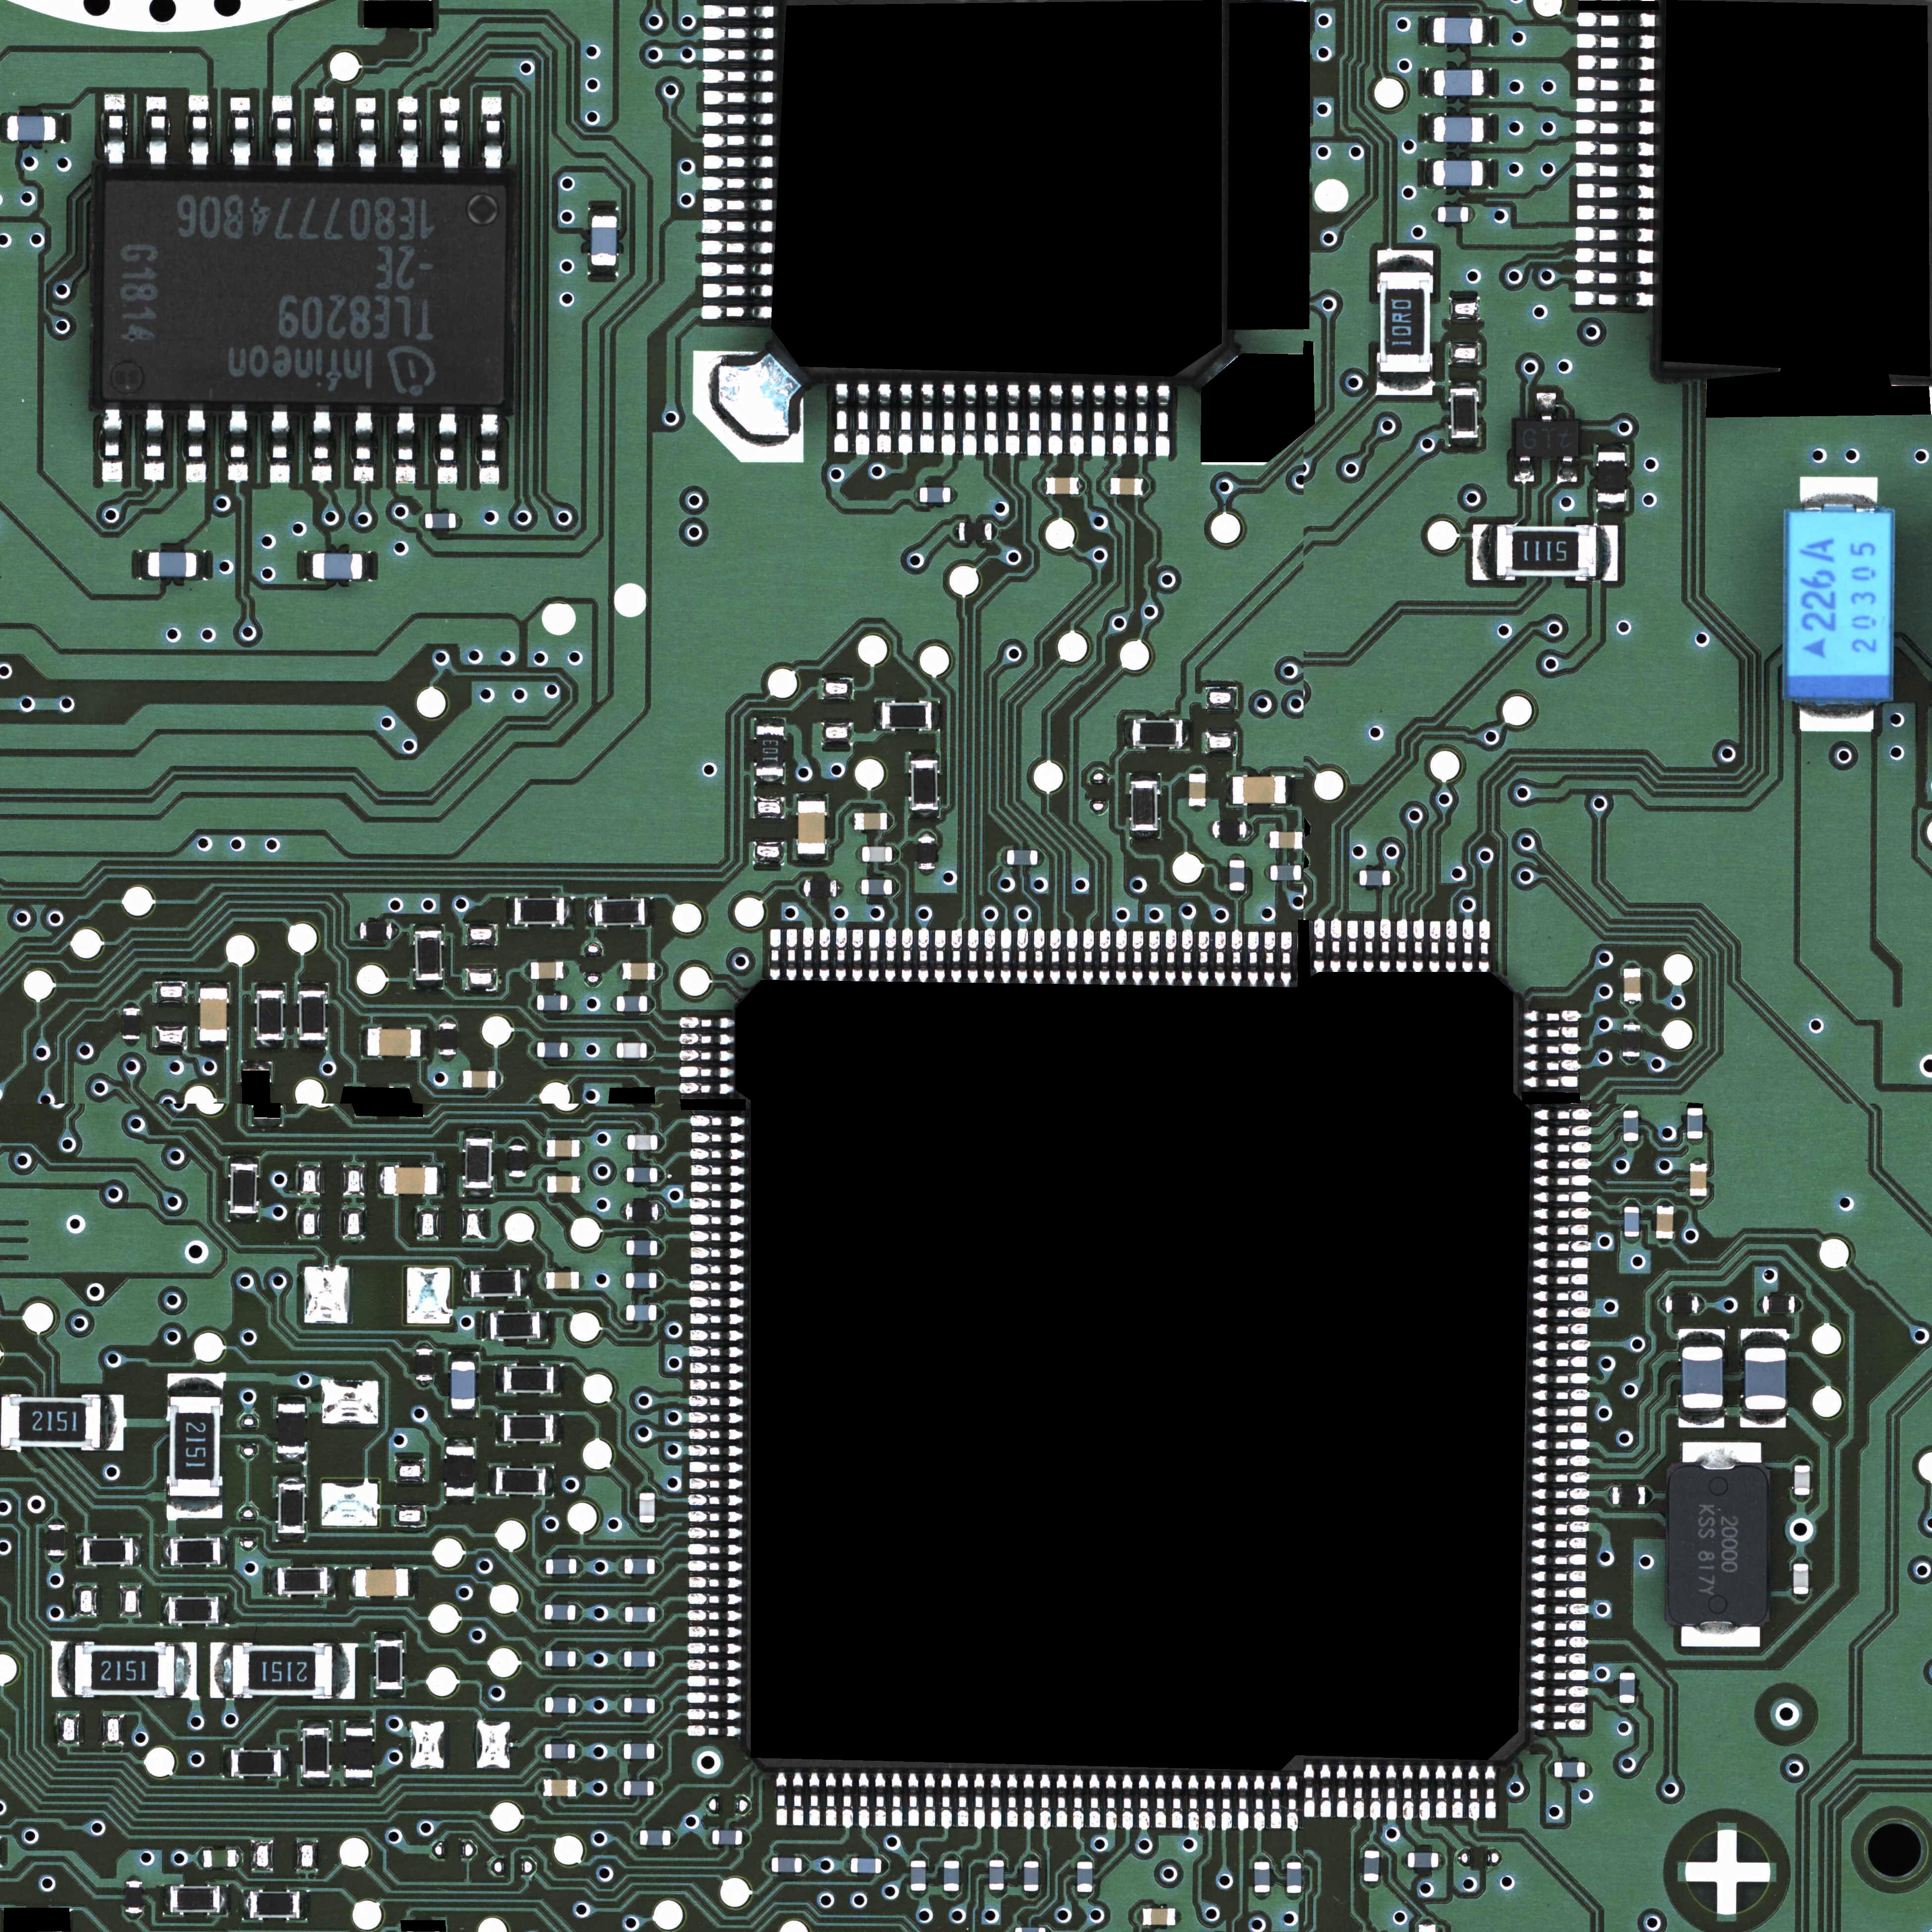Package: (101, 179, 507, 407), (1787, 510, 1892, 698), (1667, 1464, 1769, 1624), (232, 1645, 333, 1696), (75, 1644, 174, 1696), (1496, 526, 1596, 577), (1379, 272, 1430, 372), (169, 1397, 221, 1496), (2, 1397, 100, 1448), (1744, 1348, 1786, 1409), (1682, 1347, 1723, 1407), (1515, 422, 1579, 456), (199, 987, 227, 1041), (368, 1028, 420, 1056), (798, 801, 825, 854), (385, 1167, 437, 1194), (1597, 452, 1625, 502), (354, 1570, 407, 1596), (1232, 777, 1285, 803), (345, 1727, 373, 1777), (756, 725, 783, 776), (277, 1403, 305, 1452), (464, 1137, 491, 1188), (446, 1447, 474, 1496), (278, 1482, 304, 1533), (1451, 387, 1477, 438), (415, 930, 441, 980), (1434, 17, 1483, 44), (911, 760, 938, 809), (1132, 720, 1181, 746), (256, 990, 283, 1039), (504, 1415, 553, 1441), (312, 553, 363, 579), (170, 1539, 221, 1564), (1435, 69, 1484, 95), (515, 899, 564, 924), (83, 1538, 133, 1564), (299, 990, 325, 1040), (230, 1750, 280, 1776), (277, 1568, 327, 1594), (1131, 781, 1157, 830), (376, 1640, 402, 1689), (882, 703, 932, 728), (592, 215, 617, 266), (490, 1313, 540, 1338), (495, 1468, 545, 1494), (1434, 116, 1484, 141), (169, 1597, 219, 1622), (250, 1892, 300, 1917), (304, 1728, 329, 1778), (231, 1164, 256, 1213), (504, 1367, 553, 1392), (170, 1887, 219, 1912), (471, 1271, 520, 1296), (1434, 160, 1483, 185), (595, 900, 644, 924), (147, 552, 196, 577), (8, 116, 55, 140), (451, 1361, 475, 1409), (1690, 1162, 1708, 1196), (1212, 821, 1246, 839), (203, 1850, 236, 1868), (1624, 967, 1641, 1001), (1189, 773, 1207, 806), (547, 1271, 580, 1289), (959, 522, 991, 539), (1270, 831, 1302, 849), (1656, 1206, 1674, 1239), (1665, 1296, 1698, 1313), (547, 1140, 580, 1157), (1143, 1908, 1175, 1925), (626, 1203, 657, 1220), (805, 879, 836, 897), (416, 1350, 434, 1380), (531, 962, 564, 978), (1613, 1487, 1645, 1504), (855, 812, 887, 829), (1622, 1024, 1640, 1057), (122, 1007, 140, 1039), (509, 1144, 526, 1176), (125, 1881, 142, 1913), (1046, 477, 1078, 494), (1764, 1295, 1794, 1312), (918, 838, 936, 869), (463, 1070, 496, 1087), (543, 1779, 576, 1795), (547, 1175, 579, 1192), (1111, 478, 1143, 494), (622, 963, 654, 979), (545, 1697, 577, 1713), (943, 1861, 961, 1890), (544, 1743, 576, 1759), (624, 1650, 655, 1667), (360, 922, 391, 939), (626, 1240, 657, 1256), (425, 512, 456, 528), (626, 1273, 657, 1289), (1286, 1862, 1302, 1892), (440, 1023, 455, 1055), (617, 995, 647, 1011), (862, 879, 892, 895), (1255, 1862, 1270, 1892), (1229, 860, 1245, 891), (1554, 1761, 1585, 1777), (624, 1558, 654, 1574), (48, 1525, 64, 1555), (862, 846, 892, 862), (1624, 1111, 1640, 1141), (1438, 207, 1469, 222), (545, 1650, 576, 1666), (1792, 1563, 1808, 1594), (639, 1492, 654, 1523), (1359, 870, 1390, 886), (1619, 1672, 1635, 1702), (617, 1042, 647, 1058), (1076, 1862, 1092, 1892), (911, 1860, 926, 1890), (627, 1305, 656, 1321), (625, 1607, 655, 1622), (625, 1698, 655, 1713), (624, 1743, 654, 1759), (1364, 1850, 1379, 1881), (920, 487, 951, 502), (628, 1134, 657, 1150), (537, 995, 567, 1010), (545, 1604, 576, 1619), (1007, 850, 1037, 865), (1794, 1465, 1809, 1495), (771, 1856, 802, 1871), (624, 1781, 653, 1796), (1688, 1108, 1702, 1139), (1408, 1852, 1438, 1867), (640, 1830, 670, 1845), (546, 1559, 577, 1574), (851, 1857, 881, 1872), (989, 1860, 1004, 1890), (713, 1830, 742, 1844), (1624, 1207, 1639, 1236), (626, 1167, 657, 1182), (1271, 866, 1302, 880), (1024, 1861, 1038, 1891), (538, 1042, 568, 1057)
Solder: (693, 350, 803, 462), (1801, 478, 1878, 508), (1800, 702, 1874, 731), (1681, 1625, 1761, 1647), (1682, 1442, 1761, 1463), (100, 409, 123, 483), (397, 96, 420, 170), (313, 96, 335, 169), (479, 410, 500, 485), (311, 410, 332, 483), (104, 93, 125, 166), (439, 97, 461, 170), (272, 95, 293, 168), (356, 97, 377, 169), (189, 94, 209, 168), (230, 97, 251, 168), (269, 410, 290, 485), (395, 409, 416, 484), (482, 96, 502, 170), (146, 95, 167, 167), (437, 410, 457, 484), (186, 409, 206, 484), (354, 409, 374, 483), (228, 410, 248, 483), (144, 409, 164, 482), (1376, 373, 1433, 395), (167, 1373, 225, 1395), (1472, 524, 1495, 580), (166, 1497, 223, 1519), (101, 1394, 124, 1450), (333, 1643, 355, 1699), (52, 1642, 74, 1696), (175, 1643, 196, 1699), (1377, 250, 1434, 271), (210, 1643, 232, 1698), (1577, 77, 1654, 92), (1577, 119, 1654, 134), (1576, 162, 1653, 177), (1577, 184, 1655, 198), (1576, 227, 1654, 241), (1576, 290, 1653, 305), (1578, 12, 1655, 27), (1577, 248, 1654, 263), (1576, 270, 1653, 285), (1578, 35, 1655, 49), (1577, 55, 1655, 70), (1577, 97, 1655, 112), (1576, 141, 1654, 155), (1577, 206, 1654, 220), (1598, 526, 1618, 580), (856, 383, 870, 455), (1113, 384, 1127, 456), (1091, 384, 1105, 456), (1070, 384, 1085, 456), (963, 383, 977, 454), (703, 26, 773, 41), (703, 69, 773, 83), (941, 384, 956, 454), (919, 384, 933, 454), (703, 262, 773, 276), (703, 304, 773, 319), (1157, 384, 1170, 456), (1134, 384, 1148, 456), (1049, 384, 1063, 456), (985, 383, 999, 454), (899, 382, 913, 454), (877, 382, 891, 454), (1006, 385, 1019, 455), (834, 383, 848, 454), (1027, 385, 1041, 455), (703, 112, 773, 126), (703, 154, 773, 168), (704, 5, 773, 19), (704, 48, 773, 61), (704, 91, 773, 104), (704, 133, 773, 147), (703, 284, 773, 297), (703, 177, 773, 191), (703, 198, 773, 212), (703, 219, 773, 233), (703, 241, 773, 254), (1679, 1408, 1725, 1428), (1740, 1329, 1788, 1346), (1740, 1410, 1787, 1428), (1679, 1329, 1725, 1346), (1524, 1010, 1580, 1022), (1531, 1670, 1589, 1682), (1532, 1603, 1589, 1615), (1524, 1043, 1580, 1055), (1524, 1060, 1580, 1072), (1531, 1686, 1589, 1697), (957, 1774, 969, 1827), (775, 1773, 788, 1826), (1532, 1571, 1587, 1583), (1533, 1405, 1588, 1417), (1106, 1775, 1117, 1829), (687, 1609, 741, 1621), (687, 1642, 741, 1654), (688, 1477, 742, 1489), (688, 1510, 742, 1522), (688, 1527, 742, 1539), (688, 1543, 742, 1555), (688, 1576, 742, 1588), (690, 1313, 744, 1325), (689, 1411, 743, 1423), (690, 1462, 744, 1474), (691, 1132, 745, 1144), (691, 1165, 745, 1177), (690, 1181, 744, 1193), (680, 1034, 734, 1046), (1532, 1587, 1586, 1598), (1056, 1774, 1067, 1828), (792, 1772, 804, 1826), (687, 1675, 740, 1687), (690, 1378, 744, 1390), (690, 1346, 744, 1358), (691, 1362, 744, 1374), (690, 1428, 744, 1440), (690, 1115, 744, 1127), (691, 1149, 744, 1160), (680, 1050, 733, 1062), (841, 1774, 853, 1827), (809, 1773, 821, 1826), (1039, 1774, 1051, 1829), (858, 1773, 869, 1828), (1534, 1356, 1589, 1368), (1533, 1257, 1588, 1269), (1533, 1504, 1588, 1516), (1531, 1702, 1586, 1714), (907, 1774, 919, 1827), (1287, 1776, 1298, 1830), (1238, 1776, 1249, 1830), (1122, 1775, 1134, 1830), (1022, 1775, 1034, 1829), (1523, 1076, 1578, 1087), (1534, 1109, 1591, 1120), (1534, 1125, 1591, 1136), (1534, 1175, 1591, 1186), (1534, 1192, 1591, 1203), (1534, 1224, 1591, 1235), (1533, 1307, 1590, 1318), (1534, 1340, 1591, 1351), (1534, 1274, 1588, 1285), (1533, 1455, 1590, 1466), (1534, 1389, 1591, 1400), (1532, 1522, 1589, 1533), (1182, 930, 1193, 986), (1380, 920, 1391, 976), (1396, 920, 1407, 976), (1446, 920, 1456, 976), (1463, 919, 1474, 976), (1479, 920, 1490, 977), (1535, 1142, 1591, 1153), (1534, 1159, 1591, 1169), (1534, 1208, 1591, 1219), (1534, 1241, 1591, 1252), (1534, 1488, 1590, 1499), (1534, 1373, 1590, 1384), (1188, 1776, 1199, 1830), (990, 1774, 1002, 1828), (688, 1725, 742, 1737), (687, 1708, 741, 1720), (688, 1627, 742, 1638), (688, 1659, 742, 1671), (688, 1495, 742, 1506), (688, 1593, 742, 1604), (689, 1396, 743, 1407), (689, 1445, 743, 1456), (691, 1231, 745, 1243), (691, 1215, 745, 1226), (690, 1198, 744, 1209), (680, 1066, 734, 1078), (680, 1018, 734, 1029), (770, 928, 781, 984), (786, 928, 797, 984), (803, 928, 814, 984), (836, 928, 847, 984), (852, 929, 863, 985), (885, 928, 896, 984), (901, 929, 912, 985), (918, 929, 929, 985), (951, 929, 962, 985), (968, 929, 979, 985), (984, 929, 995, 985), (1017, 929, 1028, 985), (1066, 929, 1077, 985), (1083, 930, 1094, 986), (1100, 930, 1111, 986), (1149, 930, 1160, 986), (1165, 930, 1176, 986), (1199, 931, 1209, 987), (1214, 931, 1225, 987), (1248, 931, 1258, 987), (1264, 931, 1275, 987), (1314, 919, 1325, 975), (1363, 920, 1374, 976), (1412, 920, 1423, 976), (1429, 920, 1440, 976), (1533, 1323, 1589, 1334), (1532, 1538, 1588, 1549), (1531, 1636, 1587, 1647), (1485, 1765, 1496, 1818), (1468, 1765, 1480, 1818), (1452, 1765, 1463, 1818), (1370, 1765, 1381, 1819), (1402, 1766, 1413, 1819), (1419, 1766, 1430, 1819), (1353, 1765, 1364, 1819), (1336, 1764, 1348, 1818), (1320, 1764, 1331, 1817), (1270, 1776, 1282, 1829), (1089, 1775, 1101, 1829), (940, 1774, 952, 1827), (687, 1692, 741, 1703), (688, 1560, 741, 1571), (691, 1330, 744, 1342), (690, 1297, 744, 1308), (690, 1280, 744, 1292), (691, 1263, 744, 1275), (691, 1248, 745, 1259), (680, 1083, 734, 1094), (819, 928, 830, 984), (935, 929, 946, 985), (1116, 930, 1127, 985), (1034, 929, 1045, 985), (1330, 919, 1341, 975), (1533, 1471, 1589, 1482), (1254, 1776, 1265, 1829), (1221, 1776, 1233, 1829), (1205, 1776, 1216, 1829), (1171, 1775, 1183, 1828), (1155, 1775, 1166, 1828), (1138, 1776, 1150, 1829), (1007, 1774, 1018, 1827), (973, 1775, 985, 1828), (924, 1774, 935, 1827), (825, 1773, 837, 1826), (1281, 932, 1292, 987), (1533, 1290, 1588, 1301), (1533, 1439, 1588, 1449), (1531, 1621, 1586, 1632), (1531, 1719, 1586, 1730), (875, 1774, 886, 1826), (869, 929, 880, 984), (1132, 931, 1143, 985), (1524, 1027, 1579, 1038), (1535, 392, 1555, 421), (1072, 1775, 1083, 1829), (1232, 930, 1242, 987), (1556, 456, 1579, 482), (1436, 1765, 1447, 1818), (1386, 1765, 1397, 1819), (1304, 1764, 1314, 1817), (1534, 1422, 1587, 1433), (891, 1774, 902, 1827), (1532, 1555, 1587, 1565), (1531, 1654, 1586, 1664), (1001, 930, 1012, 985), (1051, 930, 1061, 984), (1347, 921, 1357, 975), (1514, 456, 1535, 482), (241, 1059, 273, 1069), (1484, 158, 1495, 188), (1182, 719, 1193, 748), (1422, 159, 1433, 187), (1423, 114, 1434, 142), (1422, 69, 1433, 97), (1421, 15, 1432, 43), (1449, 438, 1481, 447), (444, 1437, 476, 1446), (220, 1594, 229, 1627), (374, 1689, 406, 1697), (1596, 502, 1627, 512), (505, 896, 515, 926), (160, 1537, 170, 1567), (447, 1352, 481, 1360), (448, 1409, 479, 1418), (343, 1778, 374, 1787), (1484, 68, 1494, 97), (1486, 17, 1495, 46), (276, 1453, 307, 1462), (275, 1533, 306, 1542), (796, 792, 828, 800), (228, 1213, 260, 1222), (565, 898, 574, 926), (461, 1269, 471, 1297), (521, 1268, 530, 1299), (546, 1466, 555, 1497), (328, 1566, 337, 1596), (1129, 830, 1159, 839), (255, 1040, 287, 1049), (1485, 114, 1494, 143), (159, 1596, 168, 1626), (444, 1497, 477, 1504), (495, 1412, 503, 1445), (932, 701, 940, 731), (241, 1890, 250, 1921), (755, 776, 785, 785), (222, 1748, 231, 1776), (421, 1028, 430, 1057), (586, 897, 594, 926), (494, 1364, 503, 1394), (281, 1749, 290, 1779), (300, 1778, 330, 1787), (414, 980, 443, 989), (463, 1189, 492, 1198), (909, 810, 939, 818), (253, 1120, 283, 1128), (797, 854, 828, 861), (359, 1027, 367, 1057), (482, 1310, 490, 1340), (540, 1311, 548, 1341), (276, 1395, 308, 1402), (1124, 719, 1132, 748), (56, 113, 64, 143), (464, 1129, 492, 1138), (908, 752, 939, 759), (162, 1884, 169, 1916), (874, 701, 882, 730), (487, 1465, 495, 1495), (409, 1567, 416, 1600), (375, 1632, 405, 1639), (220, 1885, 228, 1916), (1130, 773, 1160, 780), (255, 982, 285, 990), (554, 1365, 561, 1395), (301, 1890, 308, 1920), (755, 718, 786, 724), (297, 1040, 328, 1047), (297, 983, 329, 990), (376, 1166, 384, 1195), (133, 1537, 141, 1565), (588, 208, 619, 215), (76, 1536, 83, 1566), (554, 1414, 561, 1444), (437, 1166, 444, 1196), (1286, 775, 1293, 805), (1449, 381, 1480, 387), (413, 924, 444, 930), (344, 1720, 375, 1727), (301, 1720, 332, 1727), (0, 114, 7, 142), (197, 550, 204, 580), (229, 1157, 259, 1163), (305, 551, 312, 581), (1225, 775, 1232, 804), (139, 551, 146, 578), (221, 1537, 227, 1568), (278, 1476, 306, 1482), (589, 266, 619, 272), (1597, 445, 1627, 451), (269, 1567, 275, 1596), (645, 898, 651, 925), (348, 1567, 354, 1599), (363, 551, 369, 581), (1795, 1296, 1804, 1314), (198, 1041, 227, 1047), (655, 1558, 663, 1577), (199, 982, 230, 987), (658, 1133, 666, 1152), (742, 1829, 750, 1847), (989, 1890, 1008, 1898), (655, 1603, 663, 1623), (943, 1891, 963, 1898), (658, 1203, 666, 1222), (656, 1305, 665, 1322), (1363, 1882, 1383, 1889), (638, 1523, 657, 1530), (657, 1273, 666, 1289), (568, 994, 576, 1012), (910, 1891, 928, 1898), (1439, 1851, 1446, 1870), (1586, 1761, 1593, 1780), (1646, 1486, 1653, 1505), (881, 1857, 889, 1875), (944, 1853, 962, 1861), (1623, 1237, 1641, 1244), (655, 1650, 662, 1669), (802, 1857, 809, 1876), (391, 922, 399, 939), (647, 1042, 655, 1059), (577, 1558, 583, 1576), (1022, 1891, 1041, 1898), (1793, 1594, 1812, 1601), (538, 1557, 546, 1574), (843, 1857, 851, 1874), (1285, 1894, 1304, 1900), (1246, 821, 1253, 840), (837, 880, 844, 898), (648, 995, 655, 1013), (1793, 1458, 1811, 1465), (657, 1240, 665, 1256), (577, 1650, 583, 1669), (1022, 1854, 1041, 1861), (1793, 1496, 1812, 1502), (655, 962, 662, 979), (540, 1272, 547, 1289), (48, 1556, 65, 1563), (658, 1167, 665, 1184), (1698, 1297, 1705, 1313), (1263, 865, 1270, 882), (577, 1603, 582, 1623), (910, 1853, 928, 1860), (1254, 1893, 1271, 1899), (618, 1240, 626, 1255), (892, 846, 899, 863), (538, 1650, 545, 1667), (618, 1604, 624, 1623), (620, 1304, 626, 1322), (569, 1042, 576, 1058), (609, 1042, 616, 1058), (1077, 1855, 1093, 1862), (992, 522, 998, 540), (1619, 1703, 1637, 1709), (1792, 1557, 1810, 1563), (952, 486, 958, 503), (1038, 850, 1044, 867), (655, 1697, 662, 1714), (655, 1743, 661, 1760), (654, 1781, 660, 1797), (671, 1830, 677, 1846), (1076, 1892, 1093, 1899), (1401, 1852, 1407, 1869), (1623, 1200, 1640, 1206), (1623, 1142, 1640, 1148), (1688, 1140, 1704, 1146), (888, 813, 894, 830), (509, 1138, 527, 1144), (577, 1697, 582, 1715), (576, 1742, 581, 1760), (576, 1780, 582, 1797), (989, 1854, 1007, 1860), (1176, 1908, 1182, 1926), (1263, 831, 1269, 849), (124, 1040, 140, 1046), (439, 1017, 456, 1023), (618, 1697, 624, 1714), (617, 1742, 624, 1759), (616, 1780, 623, 1796), (633, 1829, 639, 1845), (1284, 1856, 1304, 1861), (1690, 1197, 1709, 1202), (1624, 1104, 1640, 1111), (1391, 870, 1397, 886), (918, 832, 936, 838), (439, 1055, 456, 1061), (638, 1486, 656, 1492), (1254, 1855, 1271, 1861), (124, 1914, 143, 1920), (618, 1558, 624, 1574), (705, 1830, 712, 1846), (1144, 478, 1150, 495), (893, 879, 899, 896), (1757, 1296, 1763, 1313), (509, 1177, 527, 1183), (580, 1140, 586, 1158), (197, 1849, 203, 1868), (1656, 1239, 1674, 1244), (1689, 1157, 1707, 1162), (1228, 891, 1247, 897), (1079, 477, 1085, 495), (855, 846, 861, 862), (610, 996, 616, 1012), (618, 1650, 624, 1668), (538, 1743, 544, 1759), (537, 1779, 543, 1795), (1623, 1057, 1641, 1063), (1622, 1018, 1640, 1024), (1228, 854, 1245, 860), (1353, 869, 1359, 886), (1430, 207, 1437, 222), (457, 513, 462, 531), (918, 869, 935, 874), (564, 962, 569, 979), (580, 1272, 585, 1289), (1189, 807, 1207, 812), (855, 879, 861, 895), (765, 1857, 771, 1873), (1619, 1666, 1635, 1672), (457, 1070, 463, 1087), (539, 1697, 544, 1714), (1136, 1909, 1142, 1926), (1363, 1844, 1380, 1850), (1189, 767, 1206, 773), (914, 487, 919, 502), (620, 1273, 626, 1288), (953, 523, 958, 539), (354, 923, 359, 939), (525, 963, 531, 979), (621, 1134, 627, 1151), (541, 1139, 546, 1156), (1548, 1761, 1553, 1778), (416, 1380, 433, 1386), (580, 1176, 585, 1194), (1624, 1002, 1642, 1007), (1470, 207, 1475, 223), (415, 1345, 434, 1349), (531, 1042, 536, 1057), (49, 1518, 63, 1524), (123, 1002, 139, 1007), (1105, 478, 1110, 494), (849, 813, 854, 829), (496, 1070, 501, 1087), (541, 1175, 546, 1192), (125, 1875, 142, 1880), (1657, 1201, 1674, 1206), (1001, 850, 1007, 865), (620, 1203, 625, 1219), (1660, 1296, 1665, 1312), (1608, 1487, 1613, 1504), (419, 513, 424, 529), (799, 880, 804, 896), (621, 1167, 626, 1182), (1041, 478, 1046, 494), (531, 996, 537, 1009), (236, 1850, 240, 1868), (540, 1604, 545, 1620), (1624, 963, 1640, 967), (1207, 821, 1211, 838), (618, 963, 621, 979)
